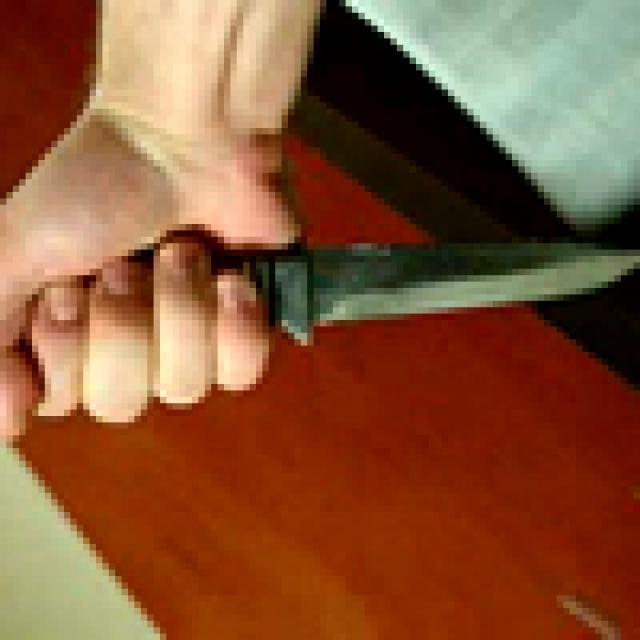Knife: (19, 224, 640, 384)
